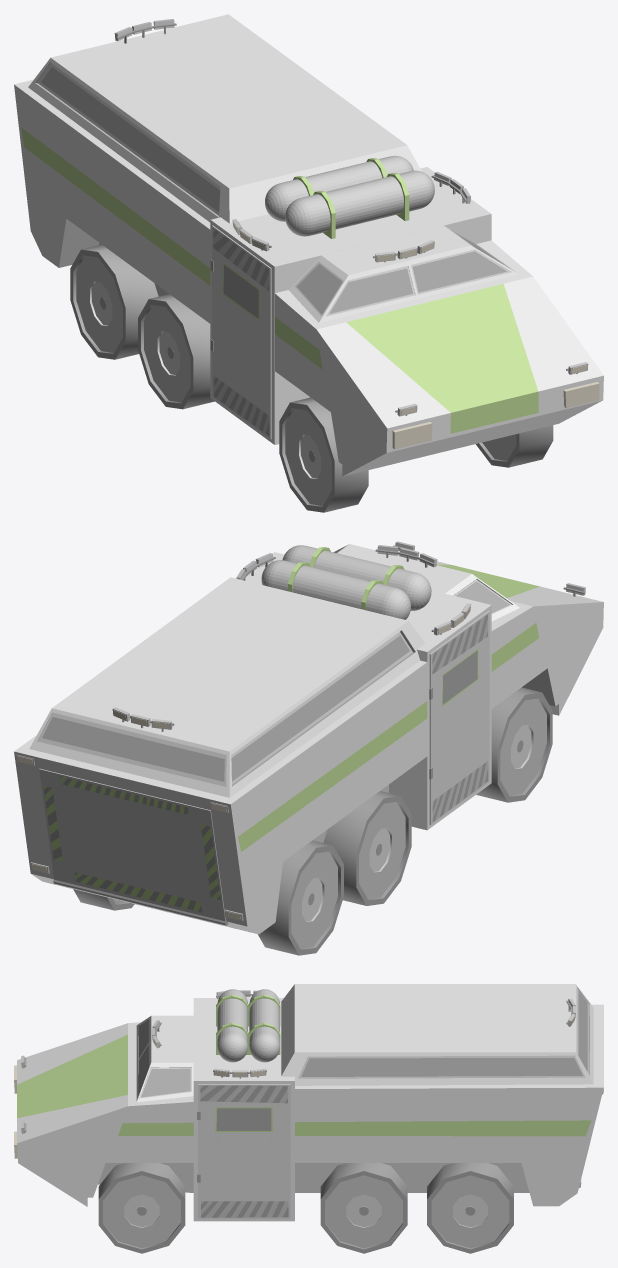
Rendered from kar1_1.fbx.
The picture shows the model from 3 angles, top to bottom: view 1: azimuth 30°, elevation 25°; view 2: azimuth 150°, elevation 25°; view 3: azimuth 270°, elevation 25°; orthographic projection. The views are drawn at different scales.
Visible parts, largest first — view 1: Cylinder, Boole_2, Boole_2_2, Boole_2_3, Boole_2_6; view 2: Cylinder, Boole_2_2, Boole_2, Boole_2_3, Boole_2_4; view 3: Cylinder, Boole_2_6, Boole_2_5, Boole_2_4.
Part boxes in pixels (<box>): Cylinder: <box>14,14,603,476</box>; Boole_2: <box>70,244,158,359</box>; Boole_2_2: <box>138,294,214,409</box>; Boole_2_3: <box>279,397,368,512</box>; Boole_2_6: <box>476,425,553,467</box>; Cylinder: <box>14,541,603,934</box>; Boole_2_2: <box>323,791,411,905</box>; Boole_2: <box>258,840,343,955</box>; Boole_2_3: <box>476,687,552,802</box>; Boole_2_4: <box>73,889,134,910</box>; Cylinder: <box>14,984,603,1221</box>; Boole_2_6: <box>98,1163,185,1253</box>; Boole_2_5: <box>320,1163,407,1253</box>; Boole_2_4: <box>427,1163,513,1253</box>.
Size of the model in its own units: 305 by 341 by 900.
